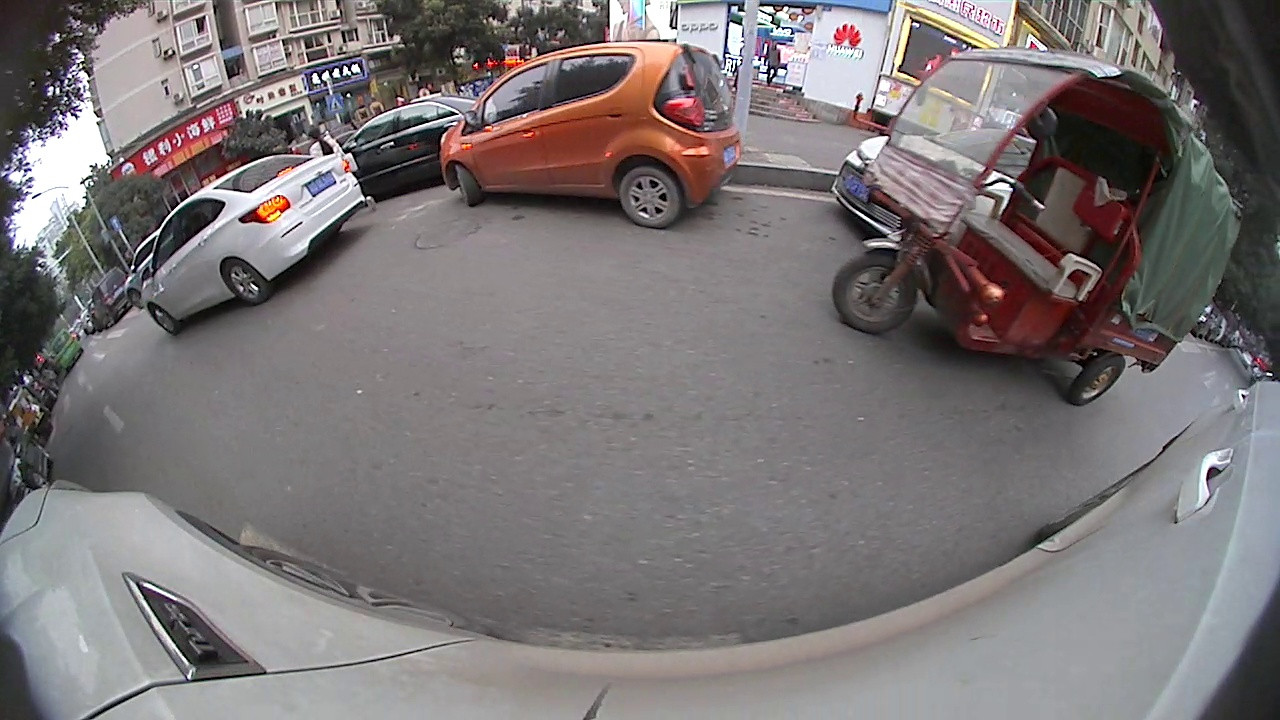car: (437, 38, 745, 235), (140, 149, 369, 339), (342, 90, 491, 201)
front: (832, 252, 921, 335), (145, 301, 185, 334)
person: (303, 120, 344, 158)
rear: (617, 164, 683, 228), (1077, 347, 1128, 410), (215, 261, 270, 301)
rider: (829, 45, 1245, 410)
